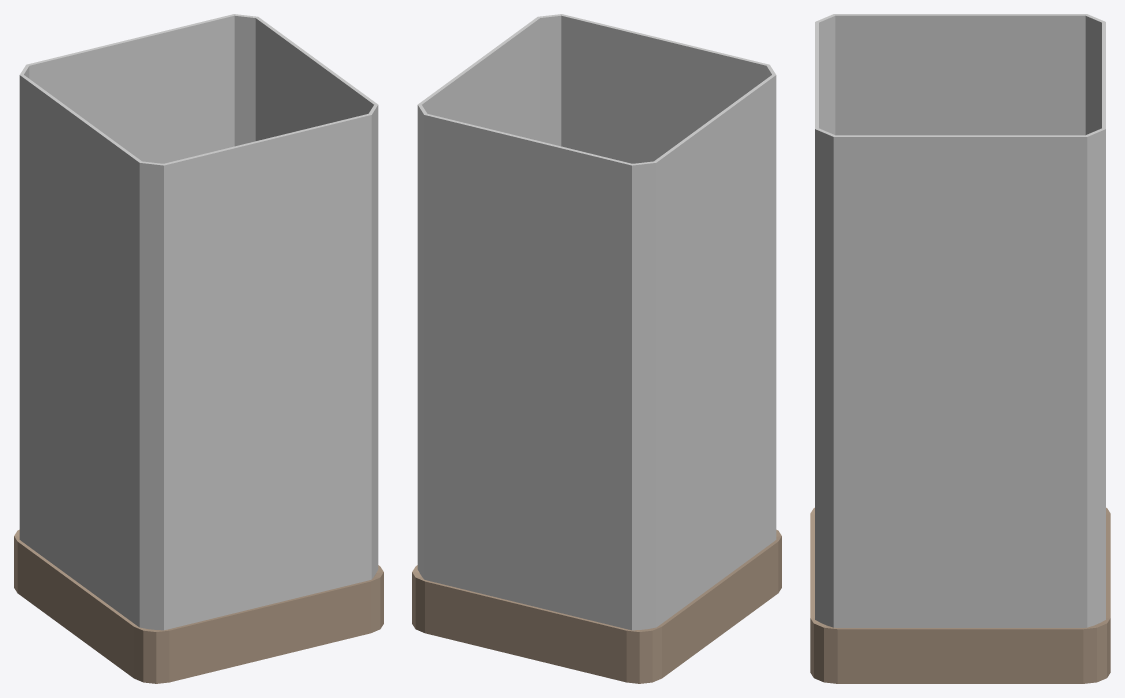
The model's file is Bathroom_Shower.fbx.
The picture shows the model from 3 angles, left to right: view 1: azimuth 30°, elevation 25°; view 2: azimuth 150°, elevation 25°; view 3: azimuth 270°, elevation 25°; orthographic projection. The views are drawn at different scales.
Parts seen in each view (by area): view 1: Bathroom_Shower; view 2: Bathroom_Shower; view 3: Bathroom_Shower.
Boxes of the visible parts, box(x1,y1,x2,y2) form: Bathroom_Shower: box(14, 14, 383, 683); Bathroom_Shower: box(412, 14, 781, 683); Bathroom_Shower: box(810, 14, 1110, 683).
Size of the model in its own units: 1 by 2 by 1.
